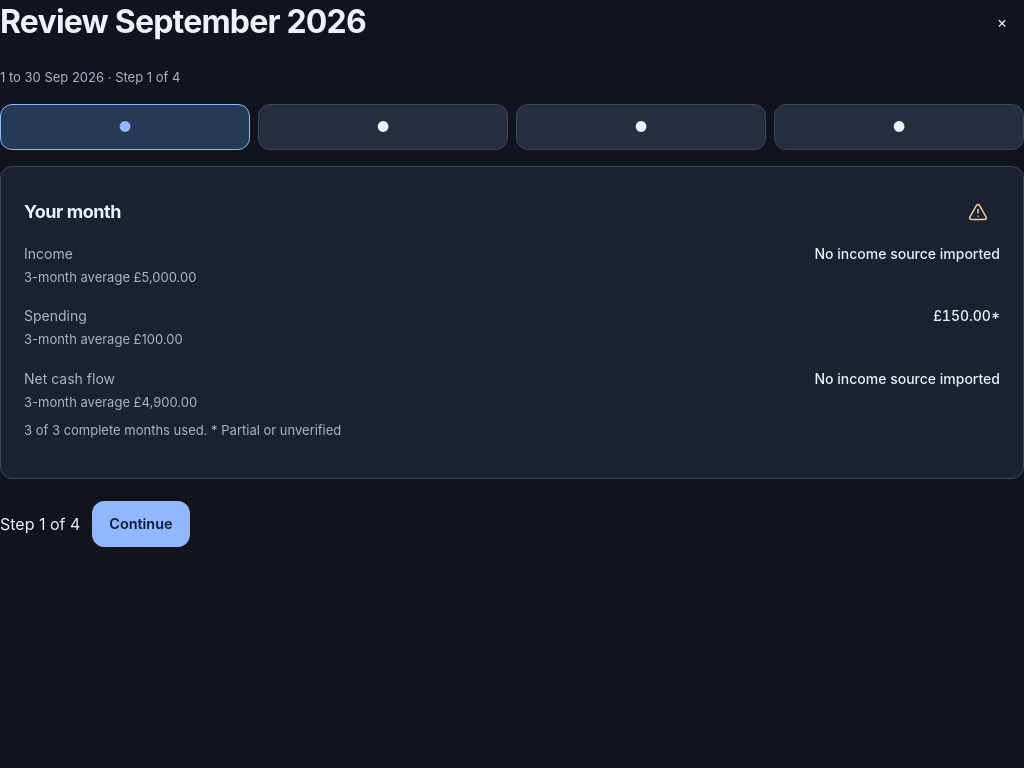
Test: withholds monthly comparisons when transactions lack their source statement
Check: the text "3 of 3 complete months used. * Partial or unverified" is shown, box [24,422,341,438]
Check: the text "This month is partial or unverified." is not shown
Click the button named "About monthly review totals". click: [978, 212]
box: [956,190,1000,234]
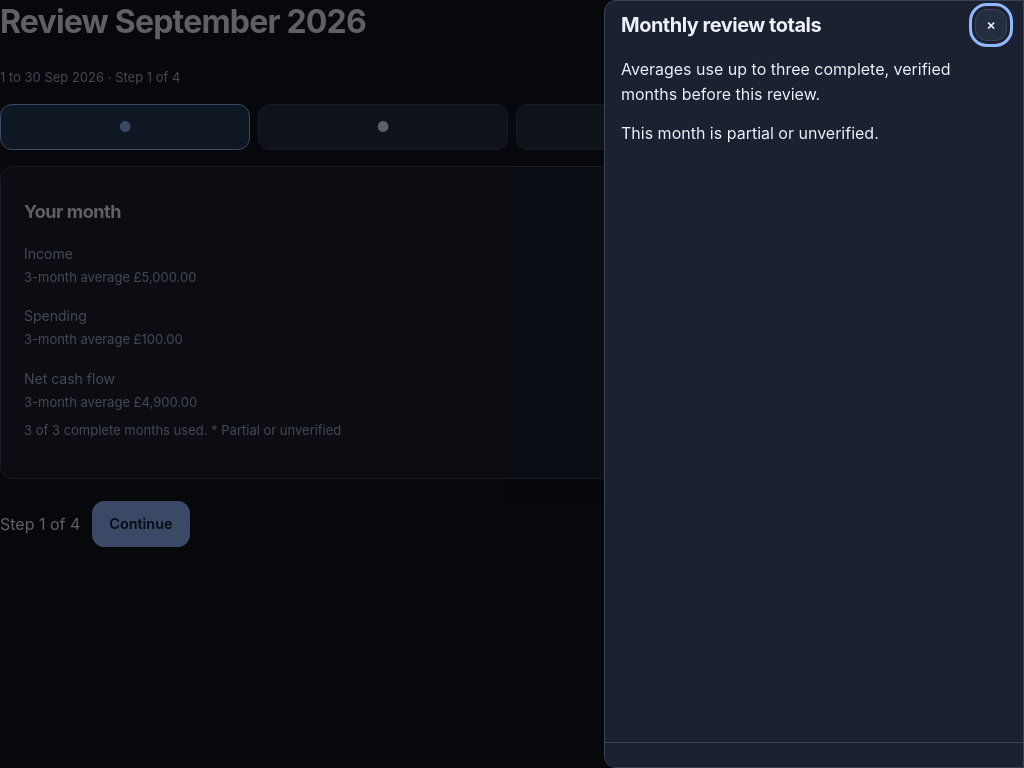
Check: the dialog "Monthly review totals" shows "This month is partial or unverified.", box [621,123,879,143]
Click the button named "Close Monthly review totals". click: [991, 25]
box: [975,9,1007,41]
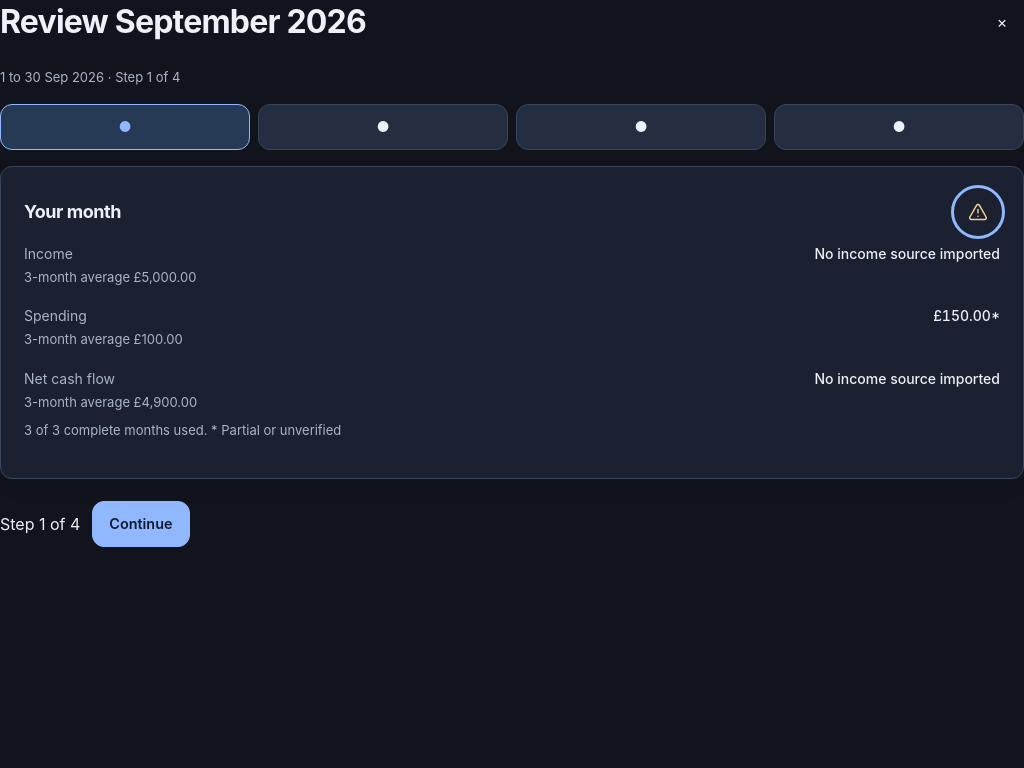
Click the button named "2. What changed". click: [383, 126]
box: [258,104,508,150]
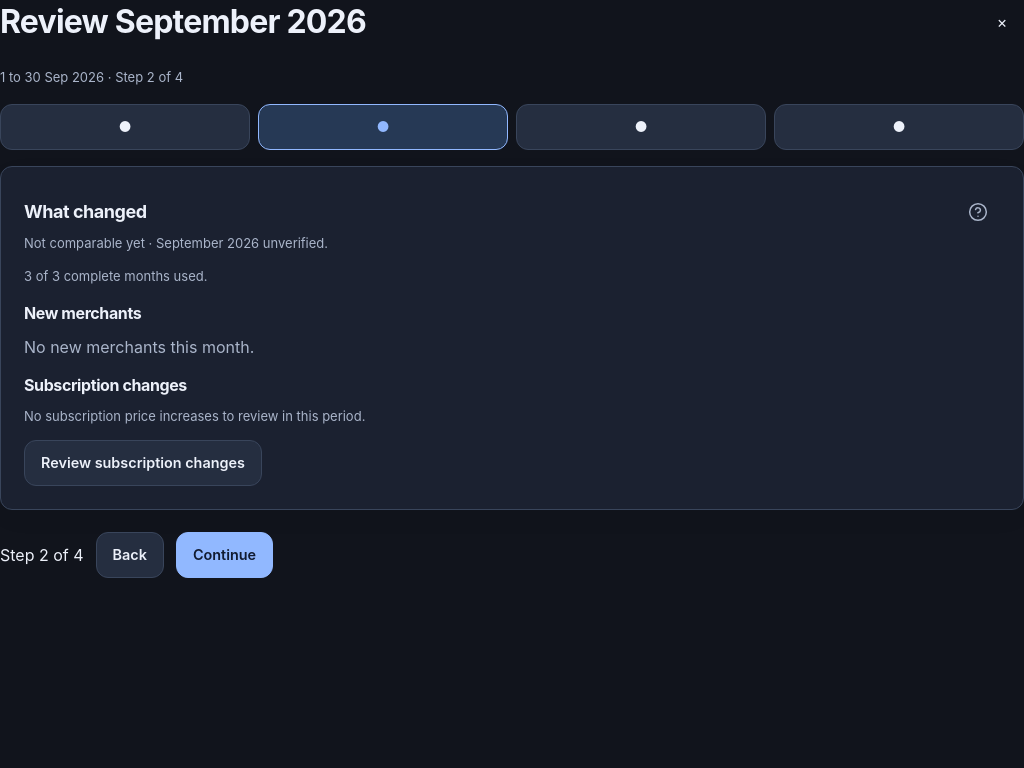
Check: the text "Not comparable yet · September 2026 unverified." is shown, box [24,234,328,250]
Click the button named "4. Housekeeping". click: [899, 126]
box: [774,104,1023,150]
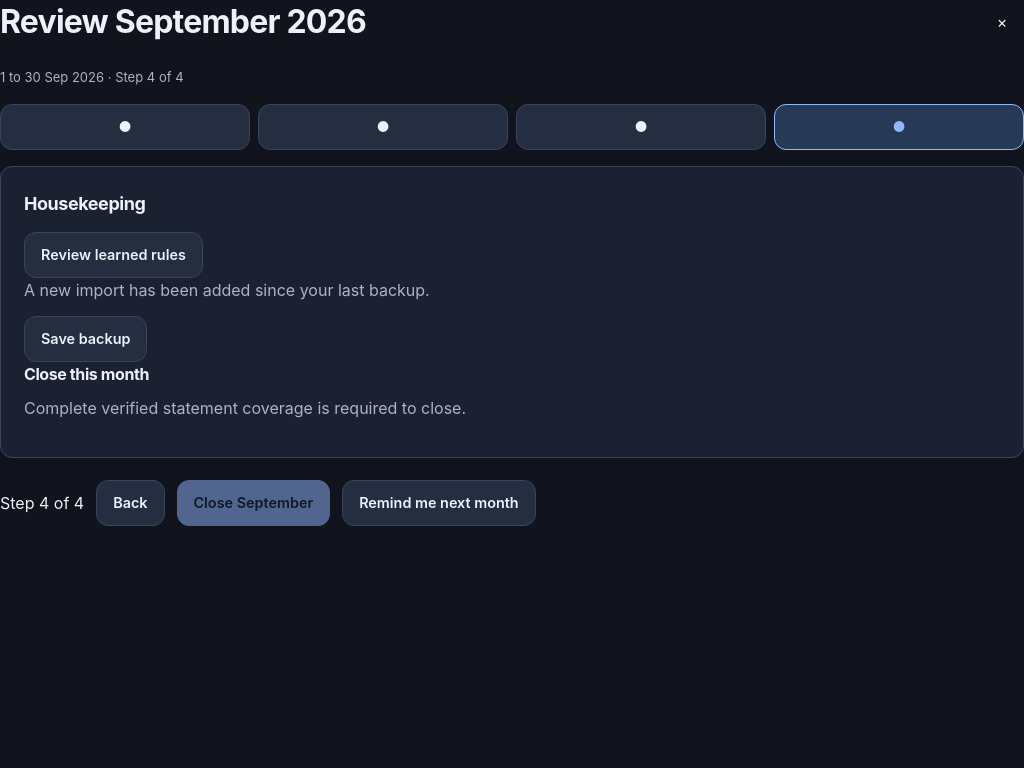
Check: the button "Close September" is disabled, box [176,480,330,526]
Check: the text "Complete verified statement coverage is required to close." is shown, box [24,398,466,418]
